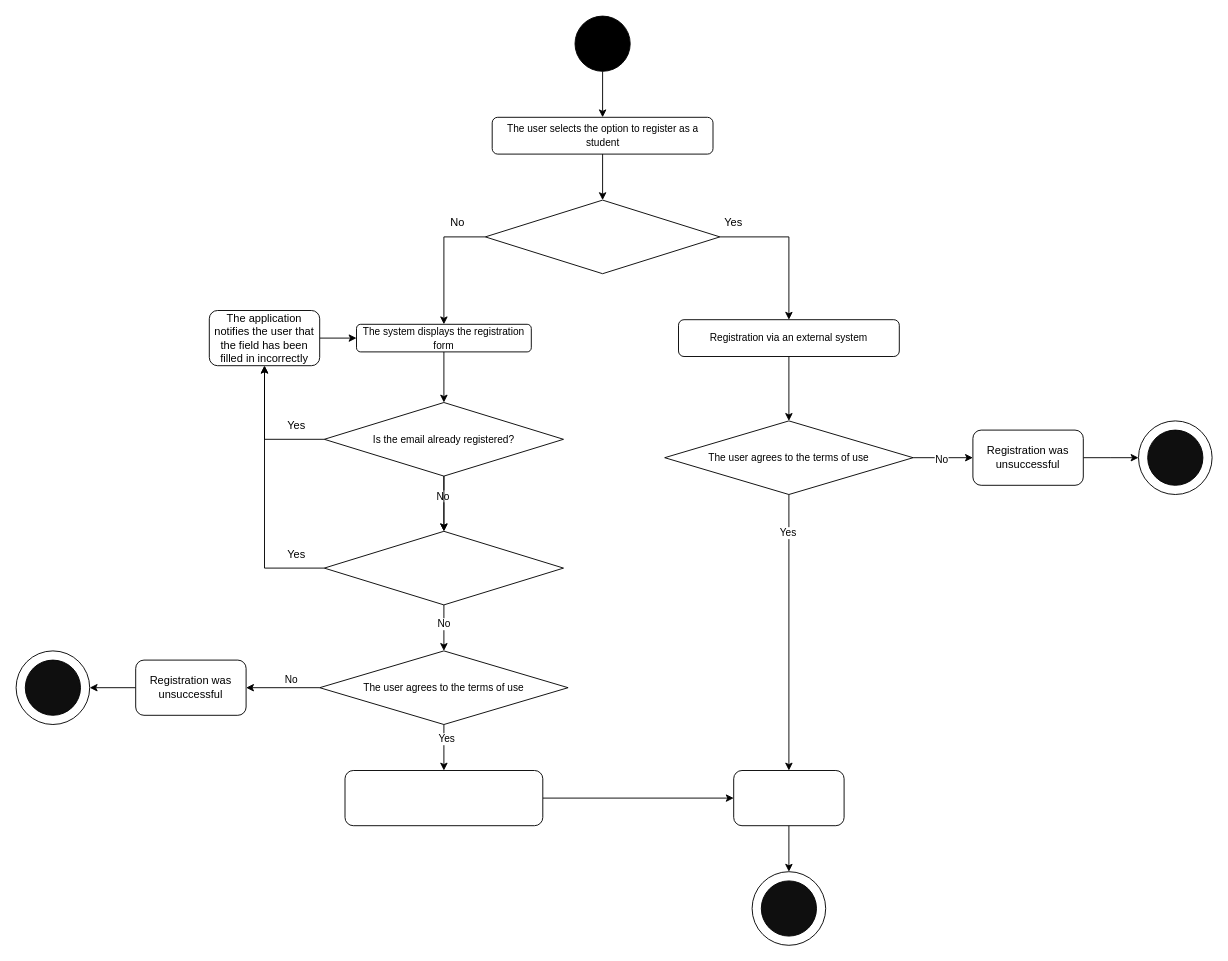
Some shapes in this 1228 by 961 pixel diagram are drawn without their labels. Here are the shapes that lost their labels. From the top down, the centre of each, then its label:
the point at 602,236: The user registers using an external system (Google, Apple, or Facebook)
the point at 443,567: Is the password too weak?
the point at 443,798: System send verification link valid for 7 days
the point at 788,798: System creates a new account
